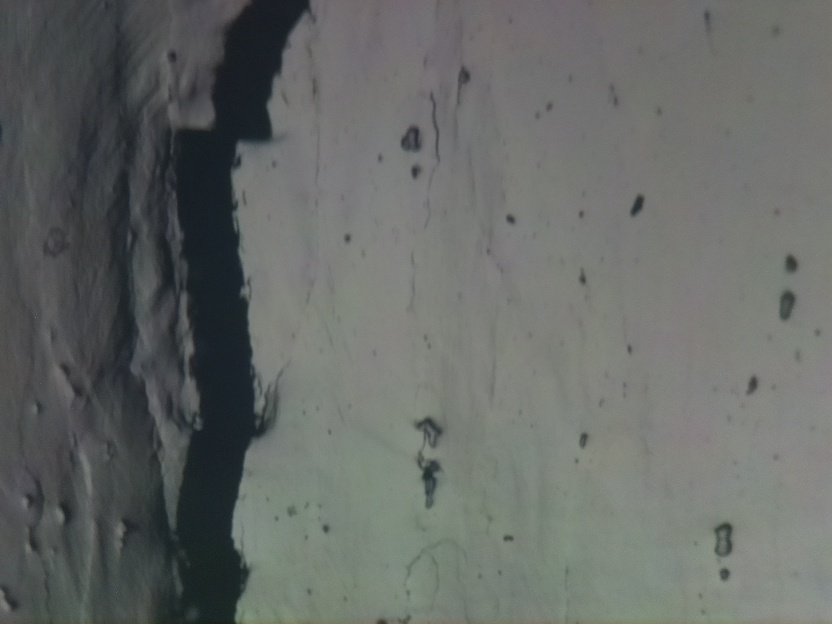crack: (174, 0, 307, 624)
